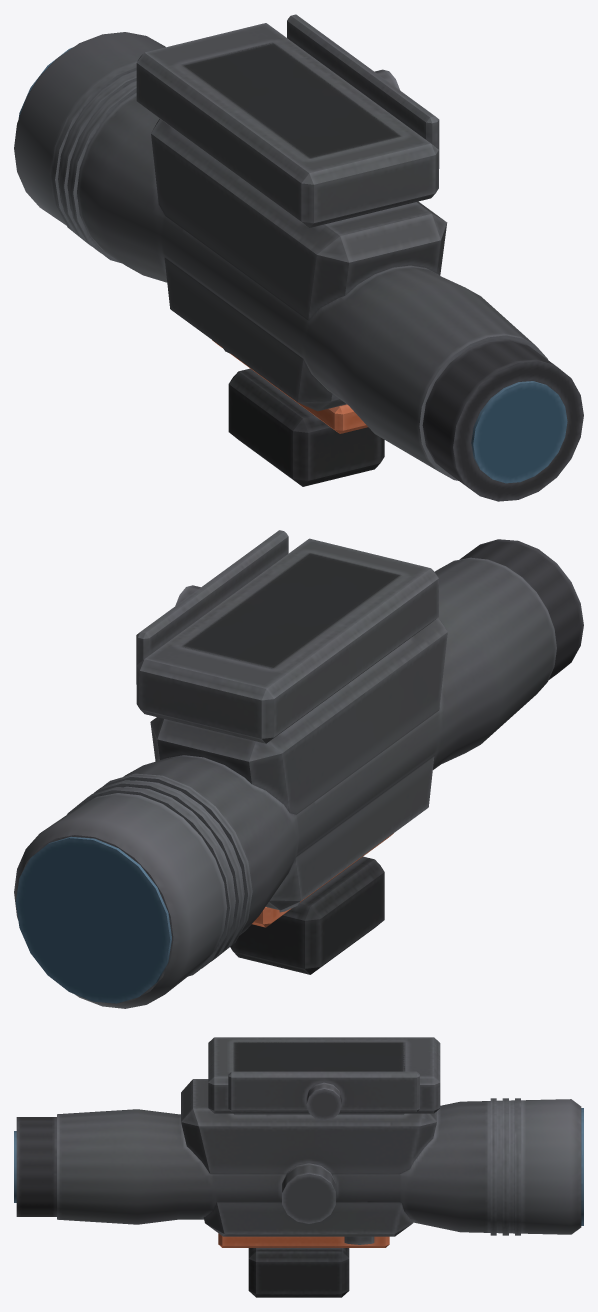
The model's file is AT_ACOG.fbx.
3 renders of one model, top to bottom at view 1: azimuth 30°, elevation 25°; view 2: azimuth 150°, elevation 25°; view 3: azimuth 270°, elevation 25°, orthographic. The views are drawn at different scales.
Parts seen in each view (by area): view 1: AT_ACOG_export; view 2: AT_ACOG_export; view 3: AT_ACOG_export.
Boxes of the visible parts, bbox=[...] form: AT_ACOG_export: bbox=[14, 14, 583, 501]; AT_ACOG_export: bbox=[14, 530, 583, 1008]; AT_ACOG_export: bbox=[14, 1037, 583, 1297].
Bounding box in the file's own units: 0.0292 × 0.113 × 0.052.
